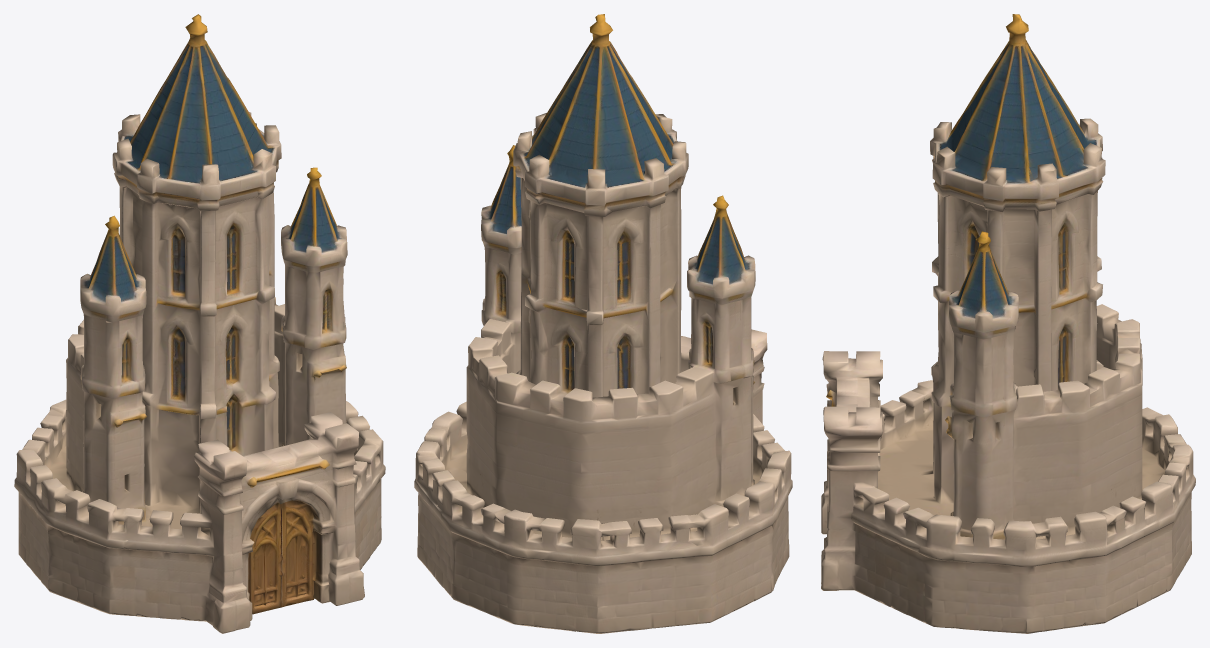
Rendered from source.glb.
3 renders of one model, left to right at view 1: azimuth 30°, elevation 25°; view 2: azimuth 150°, elevation 25°; view 3: azimuth 270°, elevation 25°, orthographic. The views are drawn at different scales.
Visible parts, largest first — view 1: tripo_node_70d282a1-c604-4d5d-9fd6-94d7ecd23ac8; view 2: tripo_node_70d282a1-c604-4d5d-9fd6-94d7ecd23ac8; view 3: tripo_node_70d282a1-c604-4d5d-9fd6-94d7ecd23ac8.
Boxes of the visible parts, x1,y1,x2,y2 form: tripo_node_70d282a1-c604-4d5d-9fd6-94d7ecd23ac8: [14, 14, 385, 633]; tripo_node_70d282a1-c604-4d5d-9fd6-94d7ecd23ac8: [414, 14, 792, 633]; tripo_node_70d282a1-c604-4d5d-9fd6-94d7ecd23ac8: [821, 14, 1195, 633].
Size of the model in its own units: 0.6271 by 1 by 0.6259.
Materials: 1 (1 with a texture image).
